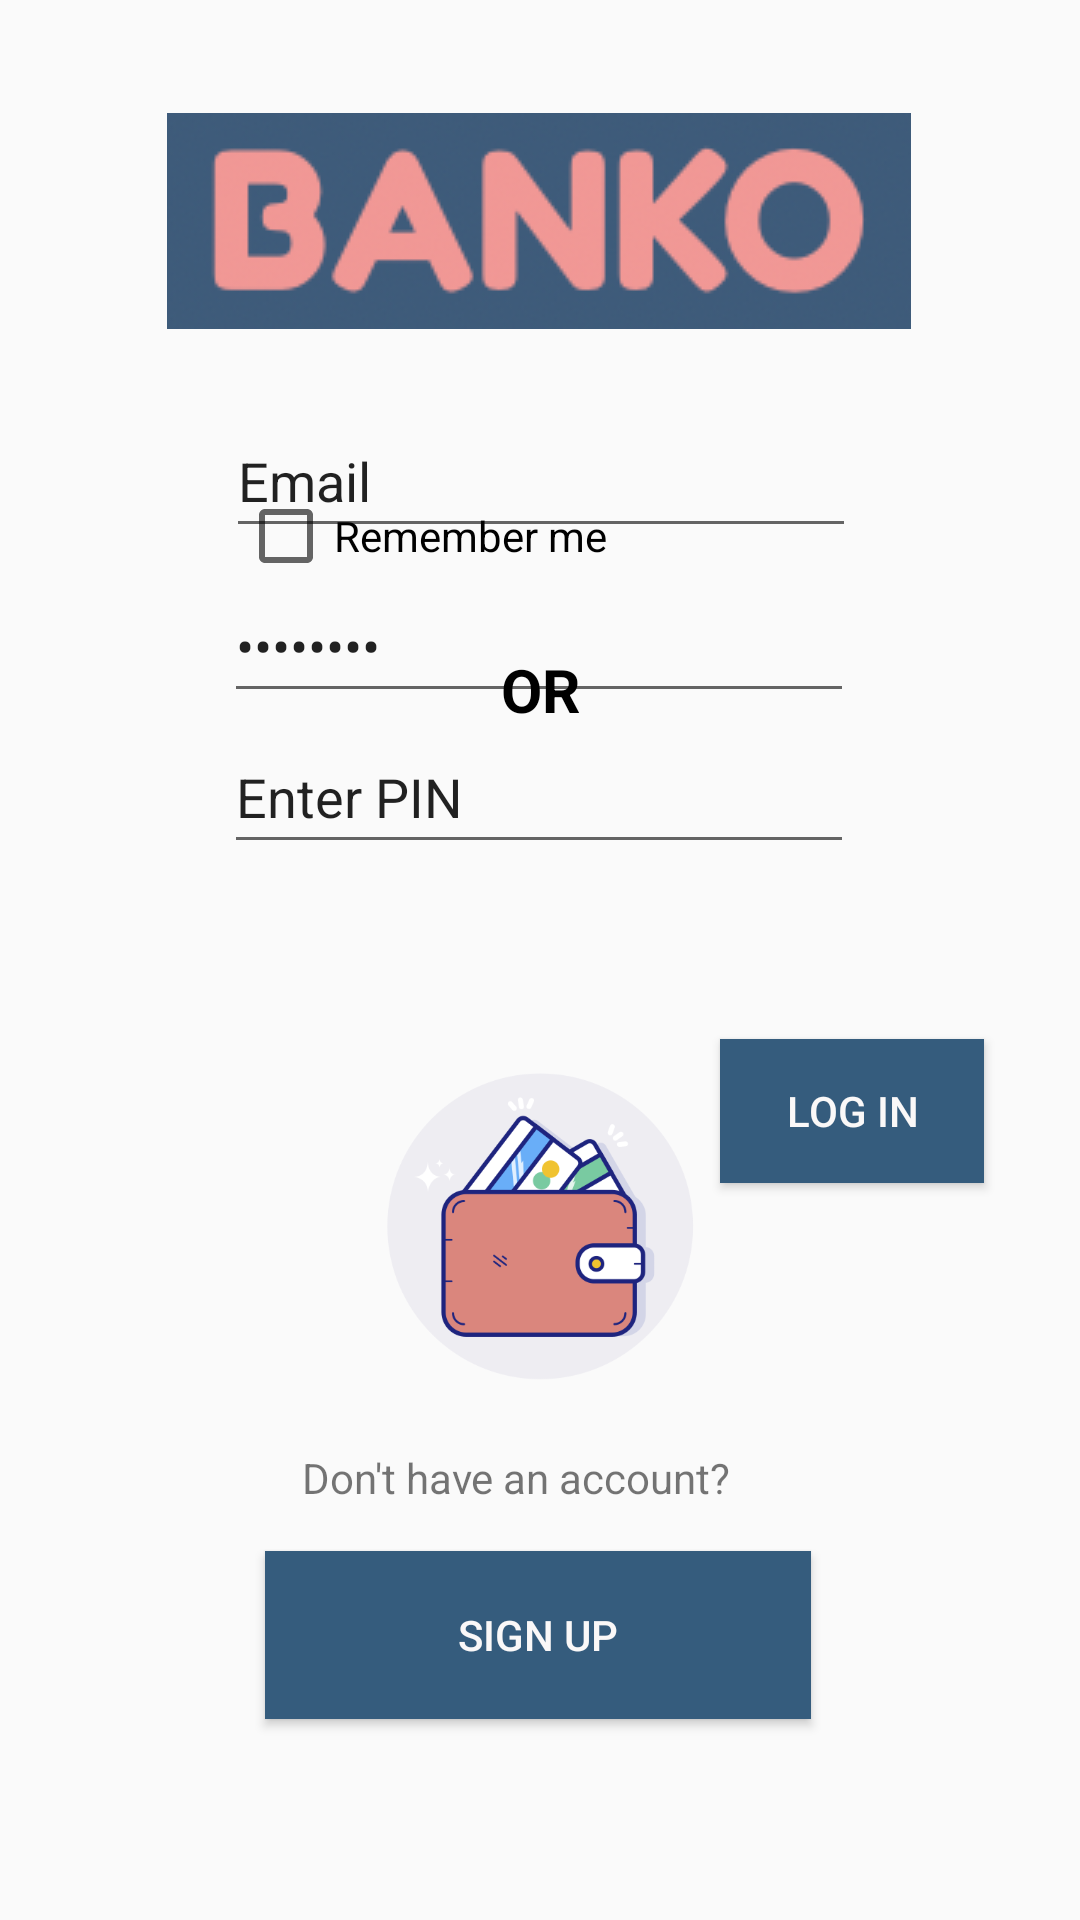

Named icons in this screenshot (1080x1920) and their bounding boxes, bbox=(x1, y1, x2, y2):
wallet: bbox=(441, 1115, 654, 1337)
